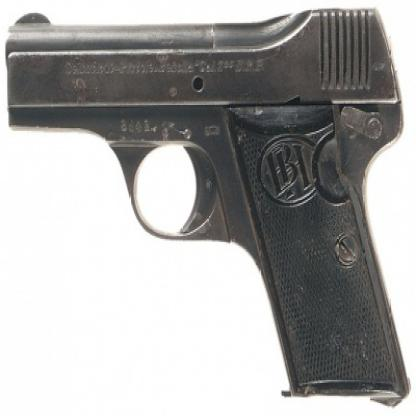Guns: (3, 4, 411, 406)
